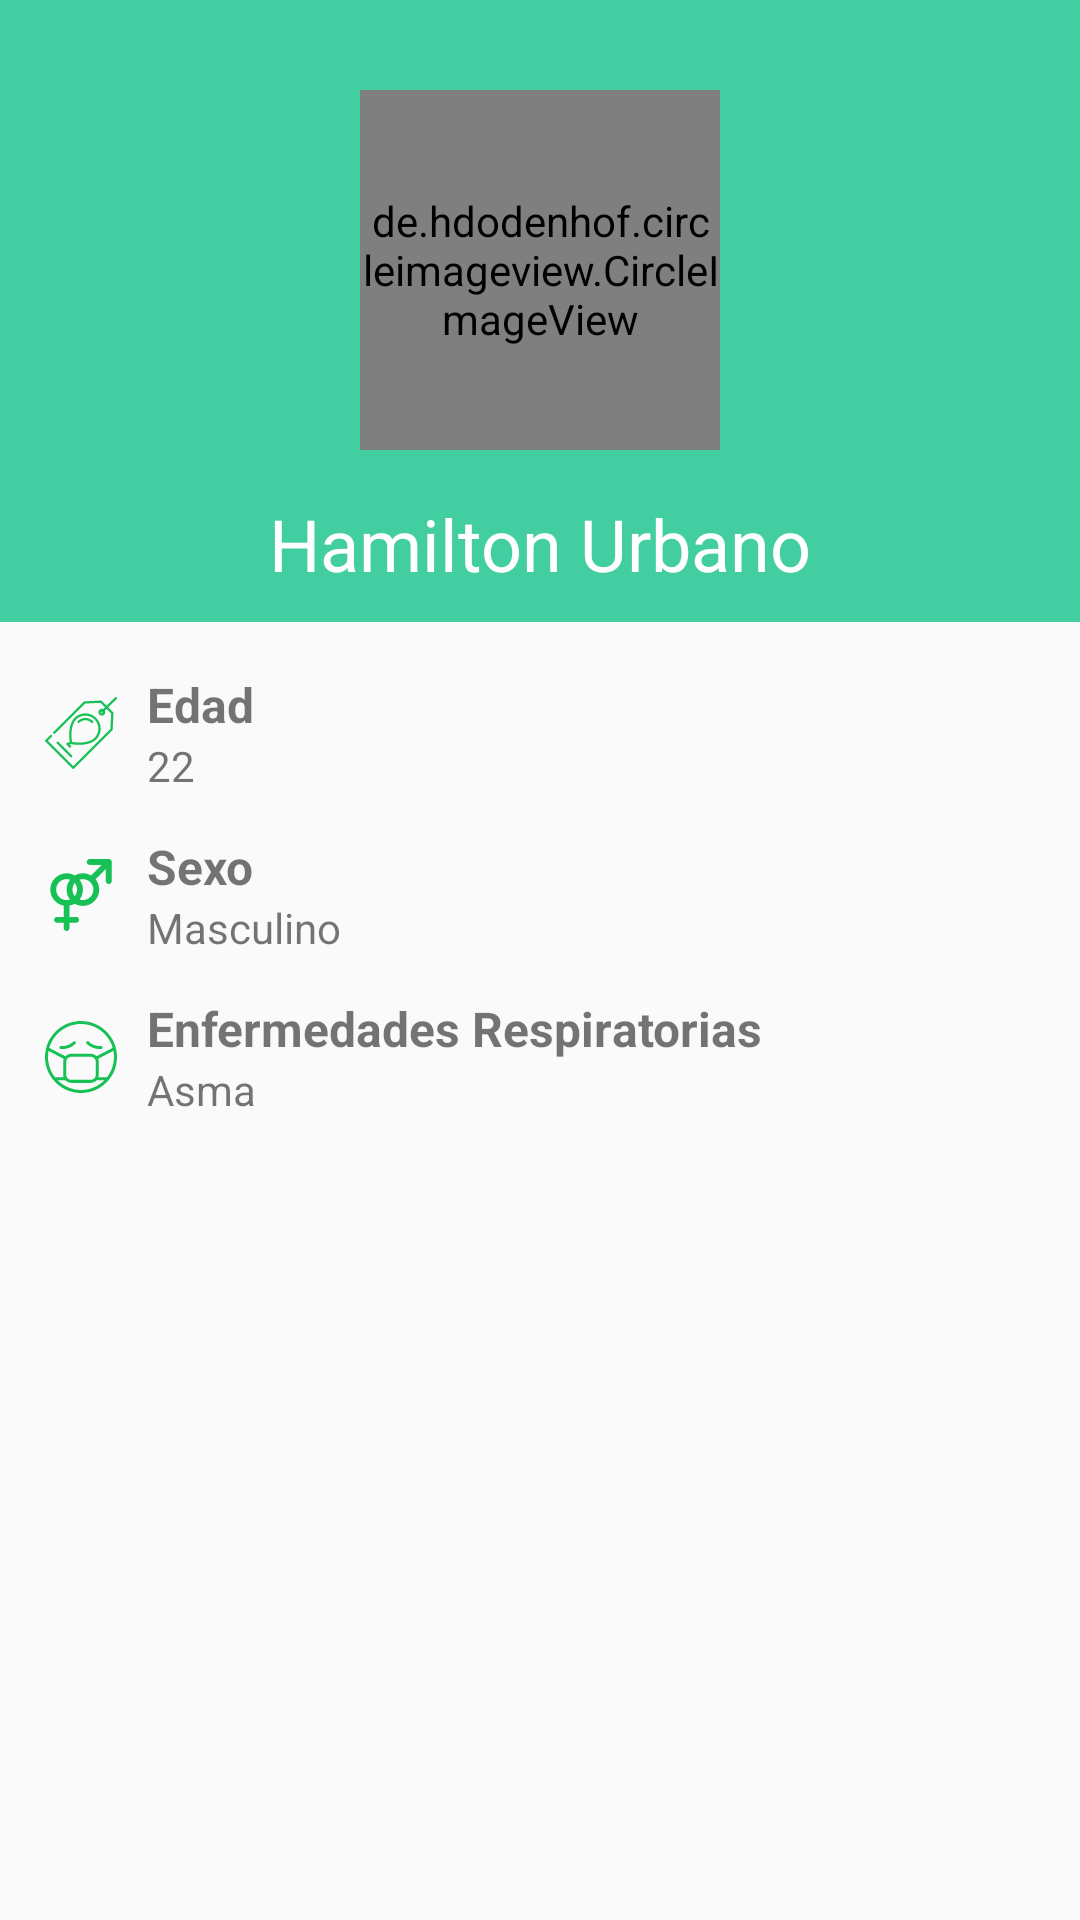

Screen size 1080px x 1920px. Icon name, then its box in pixels as (x1, y1, x2, y2):
sex: (50, 859, 112, 931)
sick: (45, 1021, 117, 1093)
